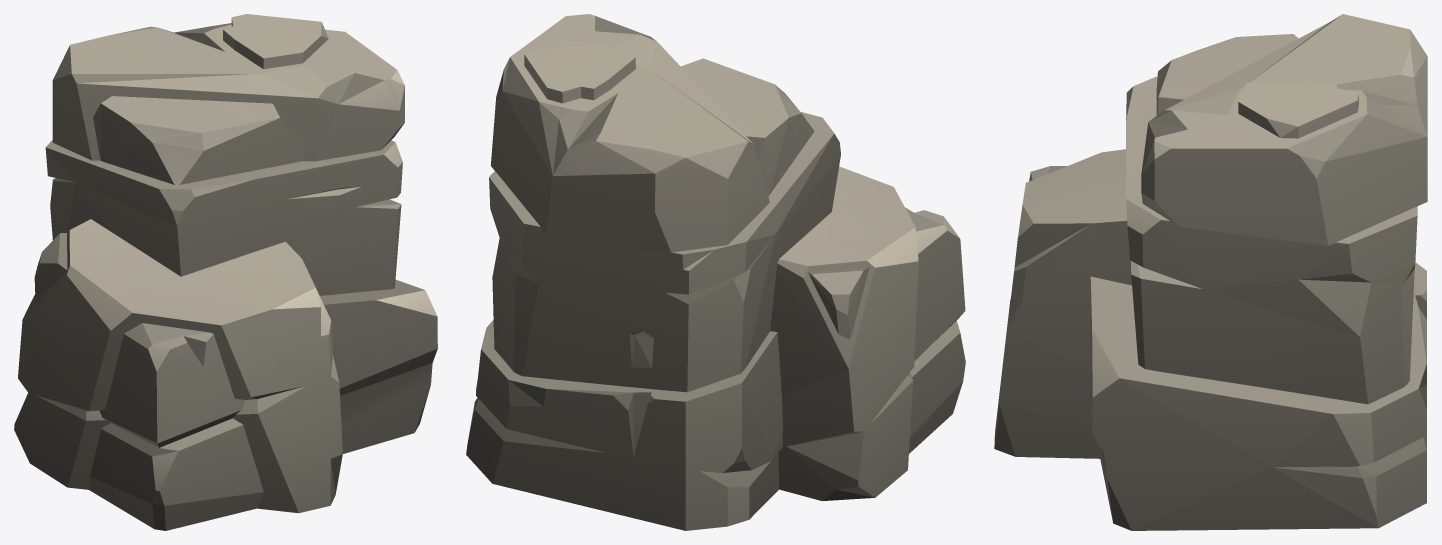
Rendered from Rock_Large_1A.fbx.
3 renders of one model, left to right at view 1: azimuth 30°, elevation 25°; view 2: azimuth 150°, elevation 25°; view 3: azimuth 270°, elevation 25°, orthographic. The views are drawn at different scales.
Parts seen in each view (by area): view 1: Rock_Large_1A; view 2: Rock_Large_1A; view 3: Rock_Large_1A.
Boxes of the visible parts, bbox=[...] form: Rock_Large_1A: bbox=[14, 14, 437, 530]; Rock_Large_1A: bbox=[466, 14, 965, 530]; Rock_Large_1A: bbox=[994, 14, 1427, 530].
Bounding box in the file's own units: 3.06 × 3.09 × 3.1.
